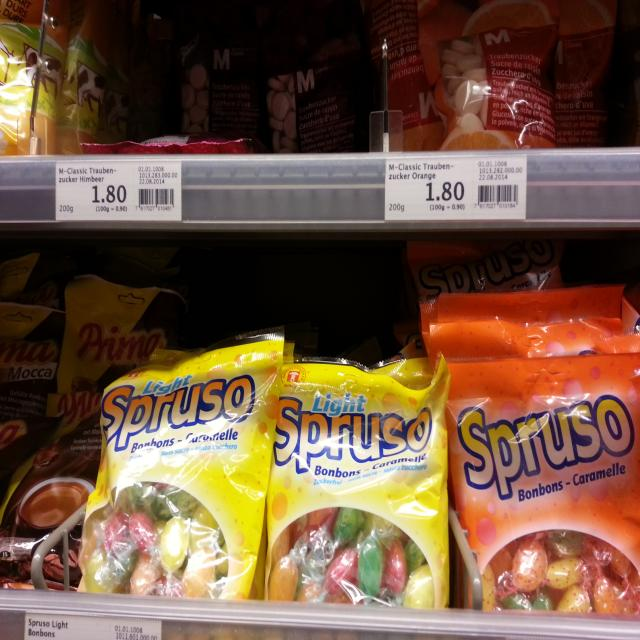Bombons: (0, 276, 173, 596), (80, 331, 285, 599), (436, 353, 640, 621), (264, 356, 448, 611), (418, 0, 555, 148)
